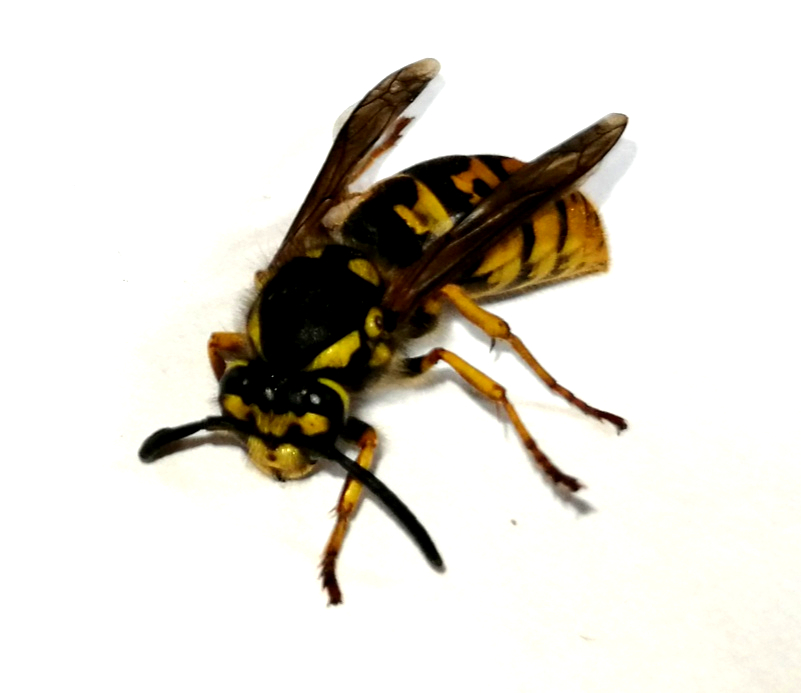chax: (116, 50, 644, 613)
